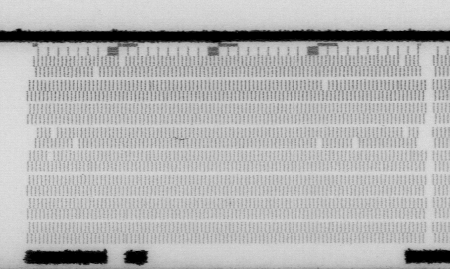Broken hole: (25, 126, 39, 148), (416, 125, 428, 150), (24, 58, 38, 79), (419, 54, 429, 78), (116, 54, 130, 68), (48, 127, 61, 140), (400, 125, 411, 140), (397, 54, 408, 69), (44, 151, 57, 163), (70, 138, 82, 151), (314, 137, 326, 150), (90, 65, 102, 77), (319, 80, 332, 91), (351, 137, 362, 149)
